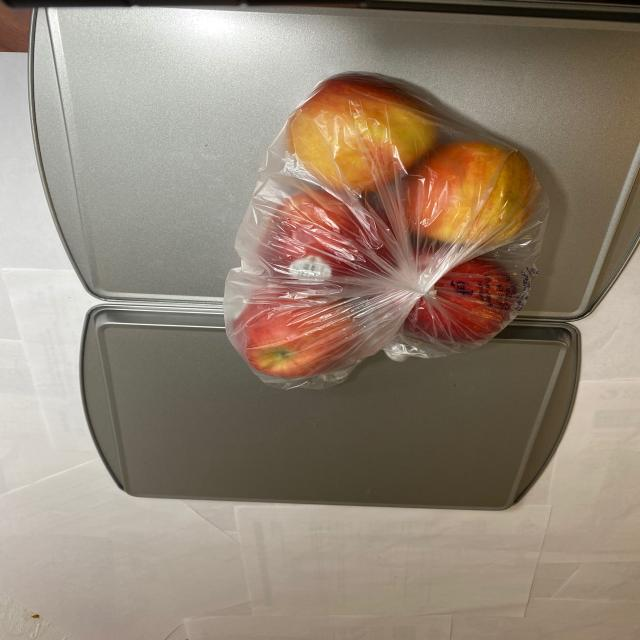apple: (222, 72, 543, 381)
